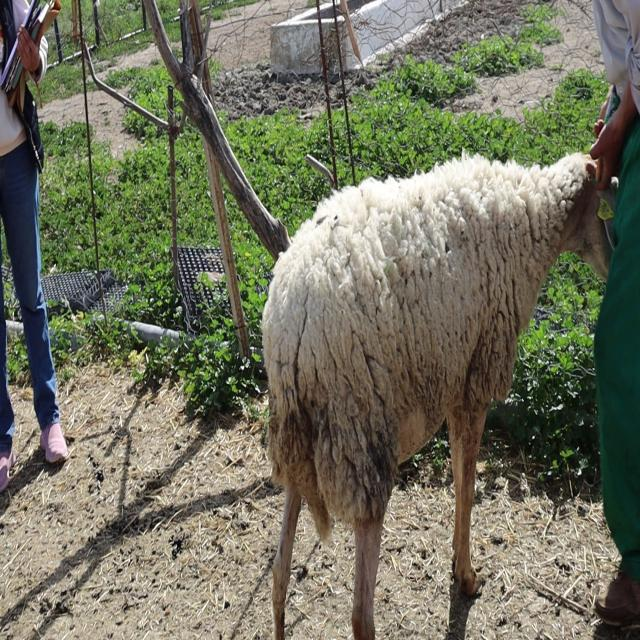Score_4: (262, 153, 612, 639)
